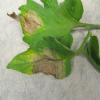Tomato leaf late blight: (6, 0, 86, 42), (5, 36, 76, 82)
